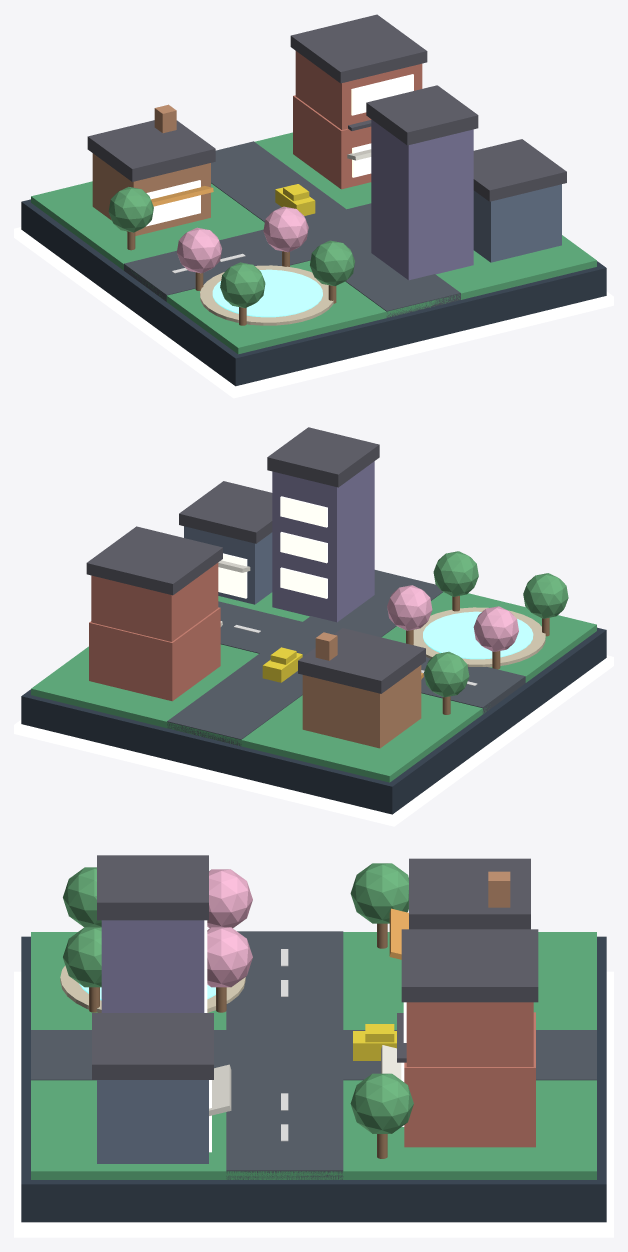
File: money_city.glb
3 views of the same model, one above another, from view 1: azimuth 30°, elevation 25°; view 2: azimuth 150°, elevation 25°; view 3: azimuth 270°, elevation 25° (orthographic). The views are drawn at different scales.
Parts seen in each view (by area): view 1: GrassSurface, BasePedestal, Tower_Body, RoadMainV, NeonRim, Nest_Roof, RoadMainH, Boutique_Body, Coffee_Roof, Tower_Roof, Boutique_Roof, Nest_Floor1 (+13 smaller); view 2: GrassSurface, BasePedestal, Tower_Body, RoadMainV, Nest_Floor1, NeonRim, Coffee_Body, Nest_Floor2, Nest_Roof, RoadMainH, Coffee_Roof, Tower_Roof (+15 smaller); view 3: GrassSurface, BasePedestal, RoadMainH, NeonRim, RoadMainV, Nest_Floor1, Nest_Roof, Tower_Body, Boutique_Body, Nest_Floor2, Boutique_Roof, Coffee_Roof (+14 smaller).
Boxes of the visible parts, left/top/right/bottom form: GrassSurface: left=31, top=132, right=596, bottom=354; BasePedestal: left=21, top=199, right=606, bottom=386; Tower_Body: left=371, top=119, right=473, bottom=280; RoadMainV: left=211, top=141, right=460, bottom=317; NeonRim: left=14, top=227, right=613, bottom=398; Nest_Roof: left=290, top=14, right=427, bottom=83; RoadMainH: left=124, top=203, right=371, bottom=301; Boutique_Body: left=473, top=184, right=561, bottom=262; Coffee_Roof: left=87, top=120, right=215, bottom=181; Tower_Roof: left=366, top=85, right=478, bottom=145; Boutique_Roof: left=473, top=139, right=566, bottom=201; Nest_Floor1: left=293, top=95, right=371, bottom=189; GrassSurface: left=31, top=592, right=596, bottom=782; BasePedestal: left=21, top=627, right=606, bottom=814; Tower_Body: left=272, top=461, right=374, bottom=622; RoadMainV: left=167, top=570, right=442, bottom=746; Nest_Floor1: left=89, top=607, right=220, bottom=701; NeonRim: left=14, top=655, right=613, bottom=826; Coffee_Body: left=302, top=665, right=421, bottom=748; Nest_Floor2: left=91, top=562, right=218, bottom=641; Nest_Roof: left=86, top=526, right=222, bottom=595; RoadMainH: left=218, top=601, right=525, bottom=713; Coffee_Roof: left=298, top=628, right=425, bottom=693; Tower_Roof: left=267, top=427, right=379, bottom=487; GrassSurface: left=31, top=932, right=596, bottom=1179; BasePedestal: left=21, top=936, right=606, bottom=1222; RoadMainH: left=226, top=931, right=343, bottom=1179; NeonRim: left=14, top=971, right=613, bottom=1237; RoadMainV: left=31, top=1030, right=596, bottom=1080; Nest_Floor1: left=404, top=1012, right=535, bottom=1147; Nest_Roof: left=401, top=929, right=538, bottom=1002; Tower_Body: left=101, top=920, right=204, bottom=1012; Boutique_Body: left=97, top=1080, right=208, bottom=1163; Nest_Floor2: left=406, top=1002, right=533, bottom=1066; Boutique_Roof: left=92, top=1013, right=213, bottom=1079; Coffee_Roof: left=409, top=858, right=530, bottom=929.
Bounding box in the file's own units: 12.3 × 6.05 × 12.3.
